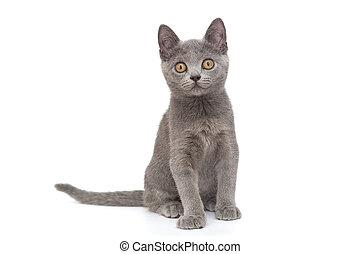rblue: (156, 18, 233, 101)
